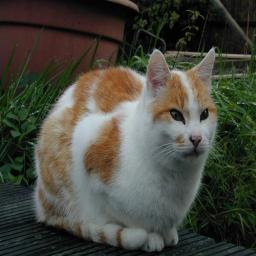catnose: (188, 134, 204, 148)
